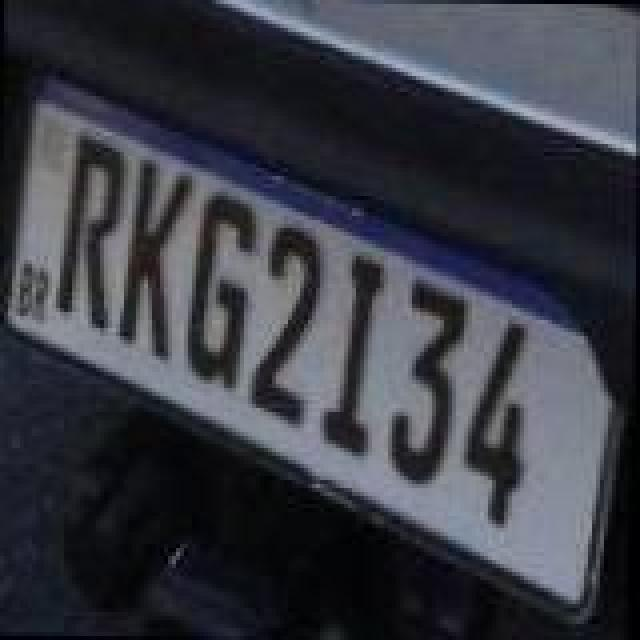2: (246, 224, 330, 432)
3: (388, 280, 472, 492)
4: (462, 322, 534, 534)
G: (180, 188, 260, 392)
I: (320, 250, 392, 462)
K: (118, 156, 198, 368)
R: (52, 128, 132, 328)
